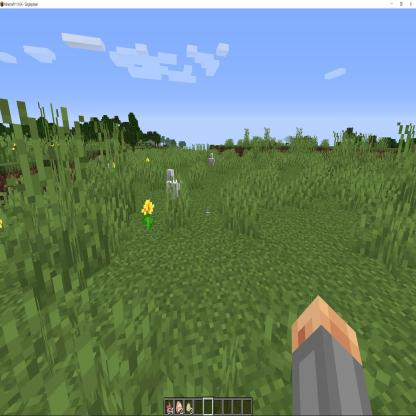minecraft-pigs: (164, 163, 184, 214), (207, 152, 217, 178)
